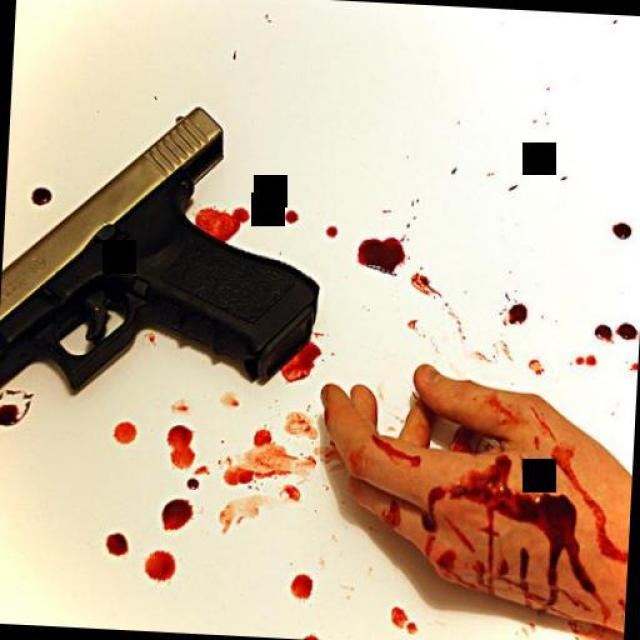gun: (0, 91, 324, 406)
